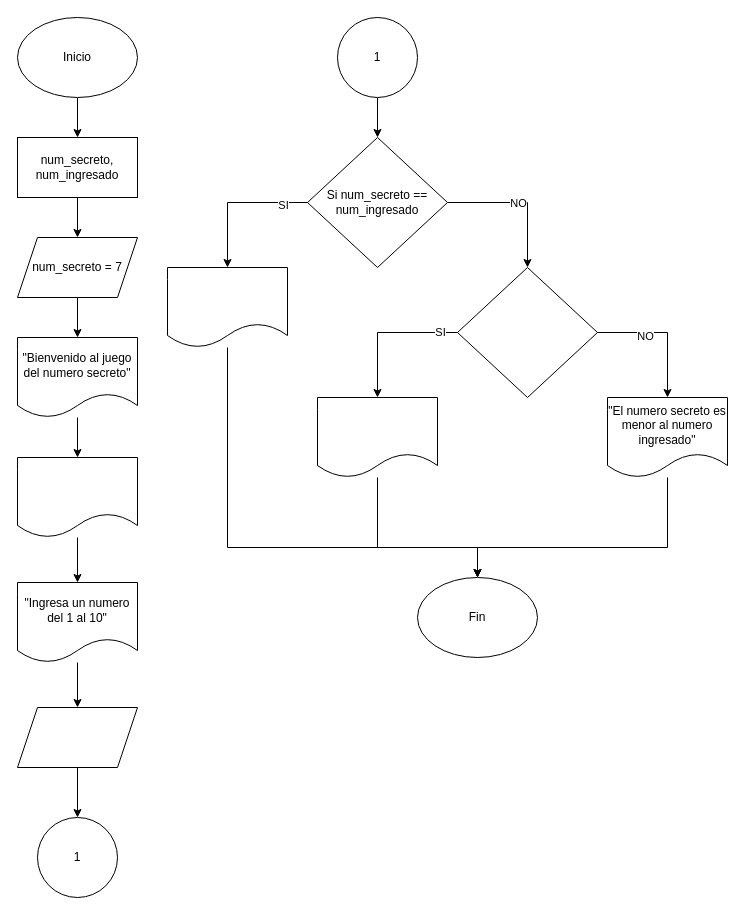
The diagram is 745 pixels wide and 915 high, and some of its shapes have lost their labels. The centre of each missing label's shape, as x and y in pixels:
"El numero secreto es mayor al numero ingresado": (x=377, y=437)
"Felicidades has adivinado el numero secreto": (x=227, y=307)
"Si num_secreto > numero_asignado": (x=527, y=332)
"trata de adivinar el numero secreto 1 al 10": (x=77, y=497)
num_ingresado: (x=77, y=737)
